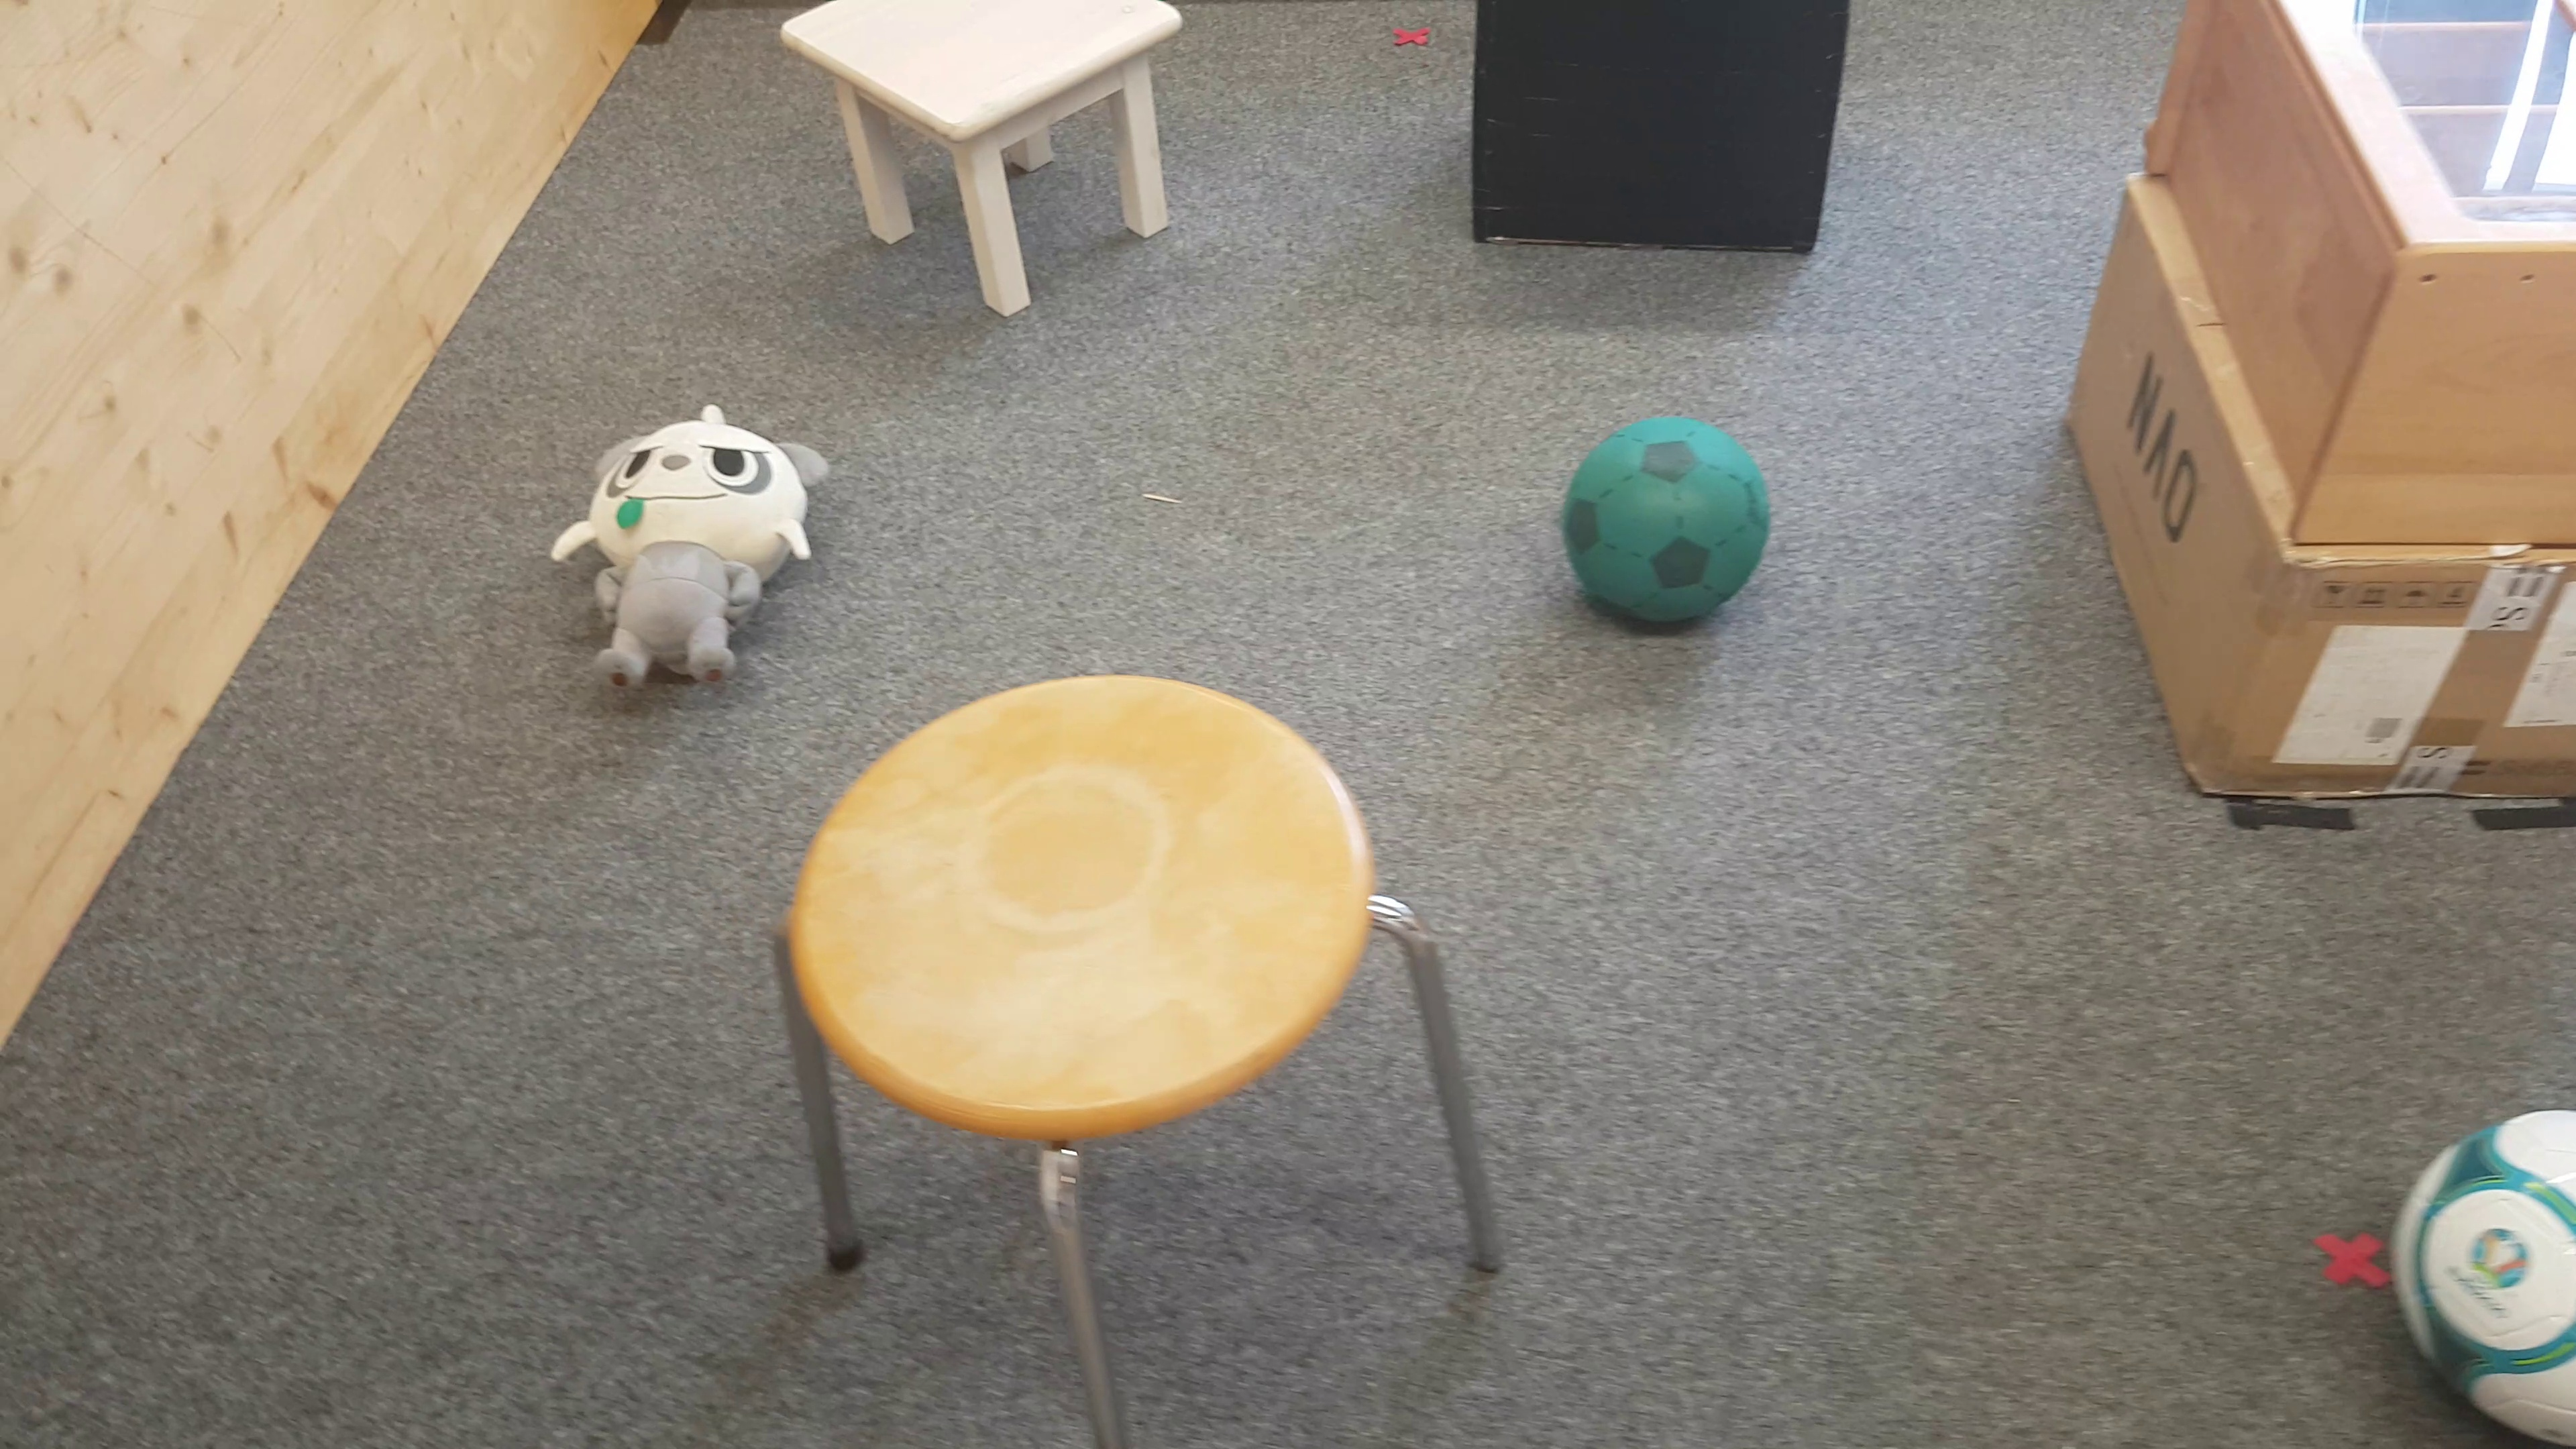grasp: (556, 409, 833, 695)
kick: (2392, 1102, 2576, 1437), (1562, 416, 1767, 630)
push: (1472, 4, 1838, 260)
